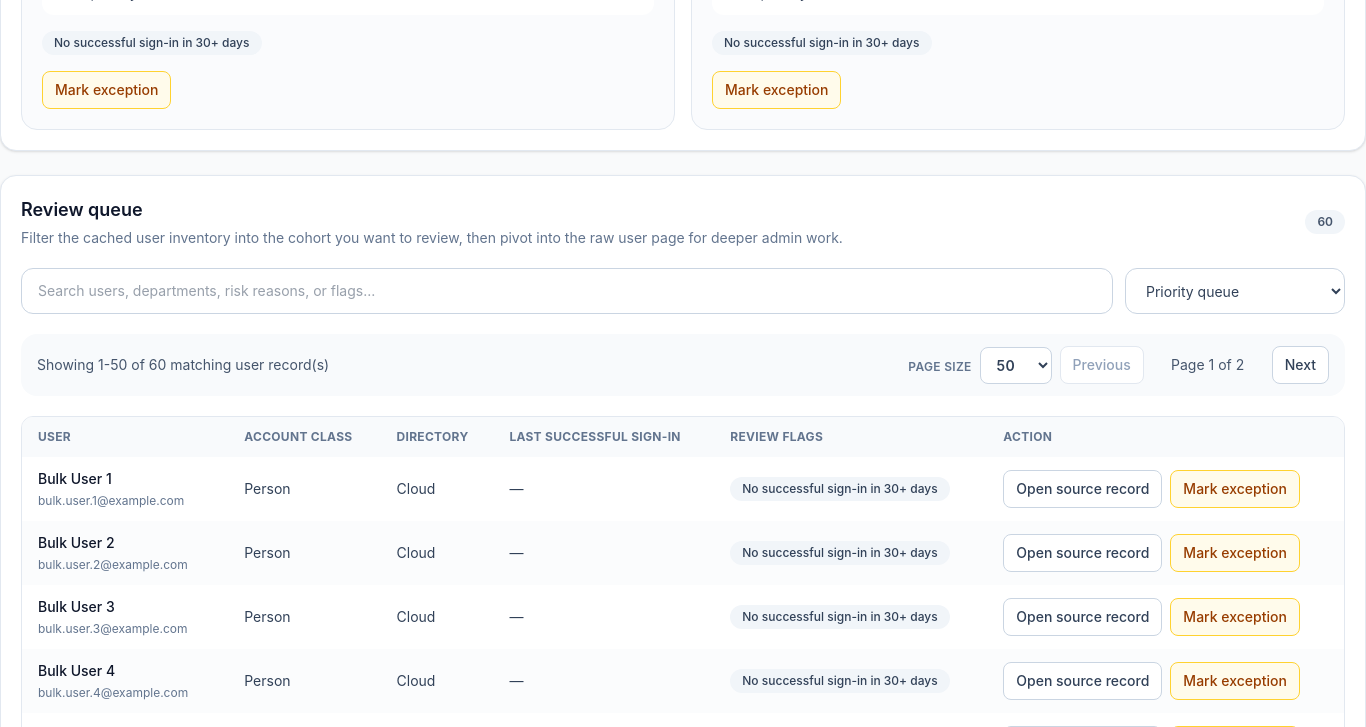
Test: AzureSecurityUserReviewPage › pages large review queues instead of rendering every user at once
(page scrolled)
Expected: the text "Showing 1-50 of 60 matching user record(s)" is shown, [37,355,329,375]
Expected: the text "Bulk User 1" is shown, [38,470,112,487]
Click the button "Next". click: (1300, 365)
box: [1272,346,1329,384]
(page scrolled)
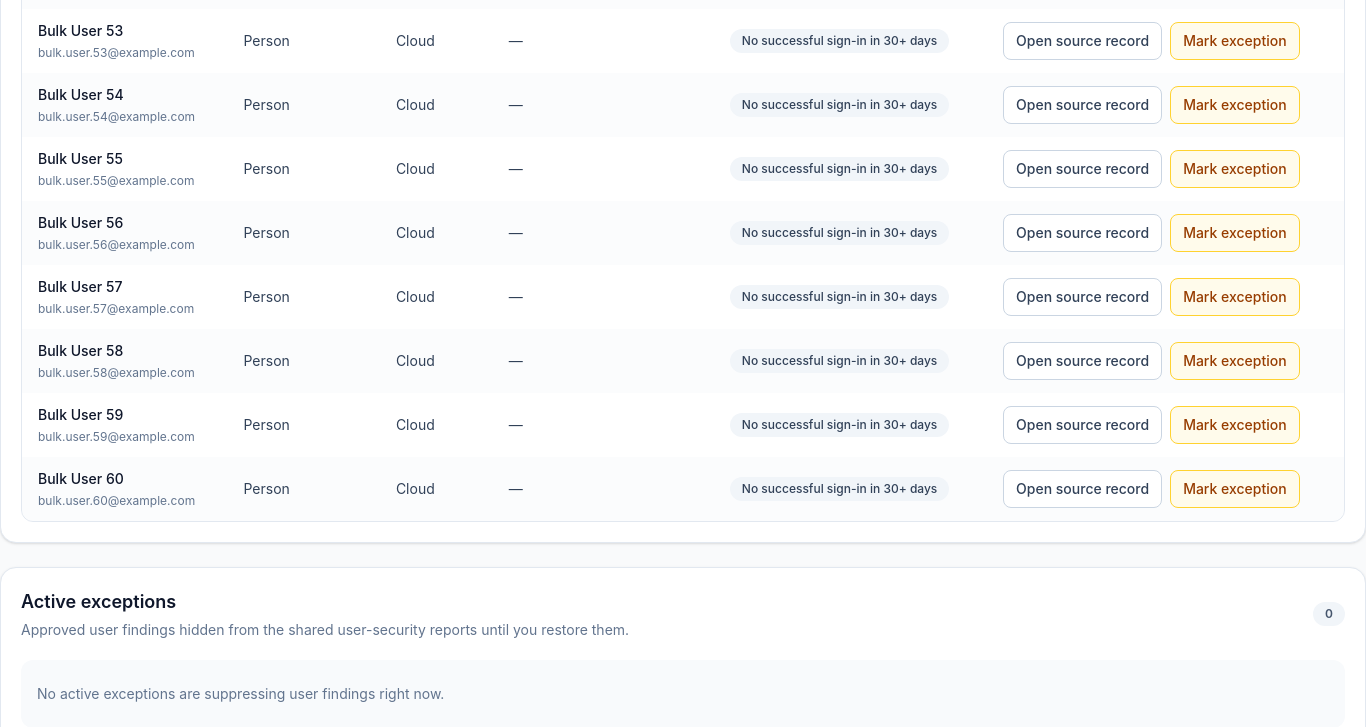
Expected: the text "Bulk User 60" is shown, [38,470,124,487]
